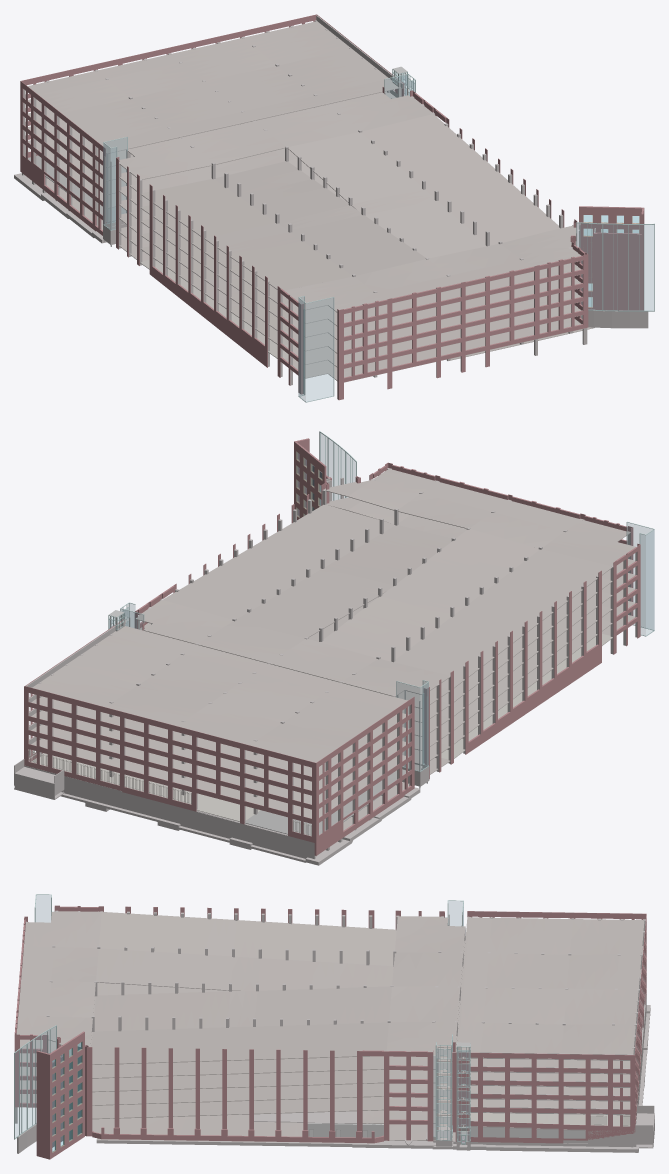
3 views of the same model, one above another, from view 1: azimuth 30°, elevation 25°; view 2: azimuth 150°, elevation 25°; view 3: azimuth 270°, elevation 25° (orthographic). The views are drawn at different scales.
Parts seen in each view (by area): view 1: 1Kfz5jpBHCXB9eeruXqHIb, 0c2stYNlTEjveY3LvhSHKI, 0c2stYNlTEjveY3LvhSHN_, 1Kfz5jpBHCXB9eeruXqHH1, 1Kfz5jpBHCXB9eeruXqHHX, 2Dllb4ndP5l8WDm214kUvk, 302LR4o954qwRBxpGktIB7, 2dSf0svjP7rhVlUcWVMVfy, 29OfwKliP91gPP679OM9Lb, 3aBc8vPuD59fXLtMAkX8ID, 0r3swWNLX8wOqJtIxuchx0, 3aBc8vPuD59fXLtMAkX8I7 (+23 smaller); view 2: 1Kfz5jpBHCXB9eeruXqHIb, 0c2stYNlTEjveY3LvhSHN_, 0c2stYNlTEjveY3LvhSHKI, 2Dllb4ndP5l8WDm214kU__, 1Kfz5jpBHCXB9eeruXqHHX, 1Kfz5jpBHCXB9eeruXqHH1, 0GjpF04mX1K8P$TdM8fU7l, 2Dllb4ndP5l8WDm214kUvk, 2_olzGh_jEMxTcpcwx1et6, 1Kfz5jpBHCXB9eeruXqHIz, 1Kfz5jpBHCXB9eeruXqHIr, 1Kfz5jpBHCXB9eeruXqHID (+17 smaller); view 3: 1Kfz5jpBHCXB9eeruXqHIb, 0c2stYNlTEjveY3LvhSHKI, 0c2stYNlTEjveY3LvhSHN_, 1Kfz5jpBHCXB9eeruXqHHX, 1Kfz5jpBHCXB9eeruXqHH1, 2Dllb4ndP5l8WDm214kUyq, 0VAEOgyk90AxIrZld_LBJb, 3BWObGKon43gv03_4OhP$A, 0c2stYNlTEjveY3LvhSHK2, 0c2stYNlTEjveY3LvhSHKA, 0c2stYNlTEjveY3LvhSHKw, 3yTjO8CpH8GR5SljxLVDxB (+40 smaller).
Boxes of the visible parts, x1,y1,x2,y2 form: 1Kfz5jpBHCXB9eeruXqHIb: [28, 21, 400, 153]; 0c2stYNlTEjveY3LvhSHKI: [287, 114, 559, 258]; 0c2stYNlTEjveY3LvhSHN_: [140, 161, 425, 290]; 1Kfz5jpBHCXB9eeruXqHH1: [119, 92, 433, 179]; 1Kfz5jpBHCXB9eeruXqHHX: [284, 225, 582, 313]; 2Dllb4ndP5l8WDm214kUvk: [20, 81, 105, 207]; 302LR4o954qwRBxpGktIB7: [597, 232, 637, 310]; 2dSf0svjP7rhVlUcWVMVfy: [306, 298, 333, 401]; 29OfwKliP91gPP679OM9Lb: [284, 318, 583, 382]; 3aBc8vPuD59fXLtMAkX8ID: [284, 241, 582, 327]; 0r3swWNLX8wOqJtIxuchx0: [284, 304, 581, 368]; 3aBc8vPuD59fXLtMAkX8I7: [284, 277, 582, 341]; 1Kfz5jpBHCXB9eeruXqHIb: [32, 626, 407, 762]; 0c2stYNlTEjveY3LvhSHN_: [320, 529, 612, 689]; 0c2stYNlTEjveY3LvhSHKI: [163, 504, 451, 637]; 2Dllb4ndP5l8WDm214kU__: [24, 686, 316, 824]; 1Kfz5jpBHCXB9eeruXqHHX: [324, 468, 635, 565]; 1Kfz5jpBHCXB9eeruXqHH1: [136, 600, 450, 696]; 0GjpF04mX1K8P$TdM8fU7l: [40, 770, 315, 859]; 2Dllb4ndP5l8WDm214kUvk: [316, 696, 414, 823]; 2_olzGh_jEMxTcpcwx1et6: [31, 753, 408, 835]; 1Kfz5jpBHCXB9eeruXqHIz: [31, 696, 408, 776]; 1Kfz5jpBHCXB9eeruXqHIr: [31, 710, 408, 790]; 1Kfz5jpBHCXB9eeruXqHID: [31, 724, 408, 804]; 1Kfz5jpBHCXB9eeruXqHIb: [456, 917, 644, 1054]; 0c2stYNlTEjveY3LvhSHKI: [91, 986, 391, 1064]; 0c2stYNlTEjveY3LvhSHN_: [96, 912, 396, 990]; 1Kfz5jpBHCXB9eeruXqHHX: [16, 911, 101, 1046]; 1Kfz5jpBHCXB9eeruXqHH1: [386, 916, 465, 1055]; 2Dllb4ndP5l8WDm214kUyq: [452, 1052, 635, 1114]; 0VAEOgyk90AxIrZld_LBJb: [92, 1114, 454, 1141]; 3BWObGKon43gv03_4OhP$A: [92, 1096, 383, 1119]; 0c2stYNlTEjveY3LvhSHK2: [92, 1069, 383, 1092]; 0c2stYNlTEjveY3LvhSHKA: [92, 1056, 383, 1078]; 0c2stYNlTEjveY3LvhSHKw: [92, 1083, 383, 1105]; 3yTjO8CpH8GR5SljxLVDxB: [48, 1031, 84, 1159].
Bounding box in the file's own units: 80.53 × 25.6 × 131.
